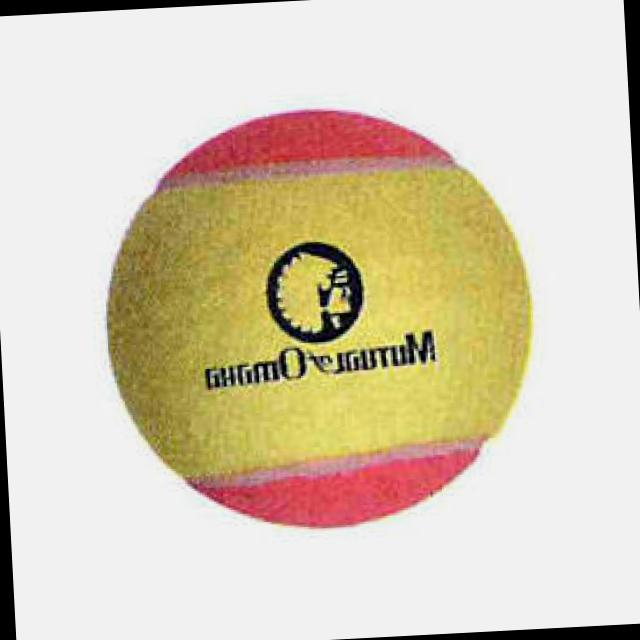Tennis Ball: (109, 110, 531, 529)
